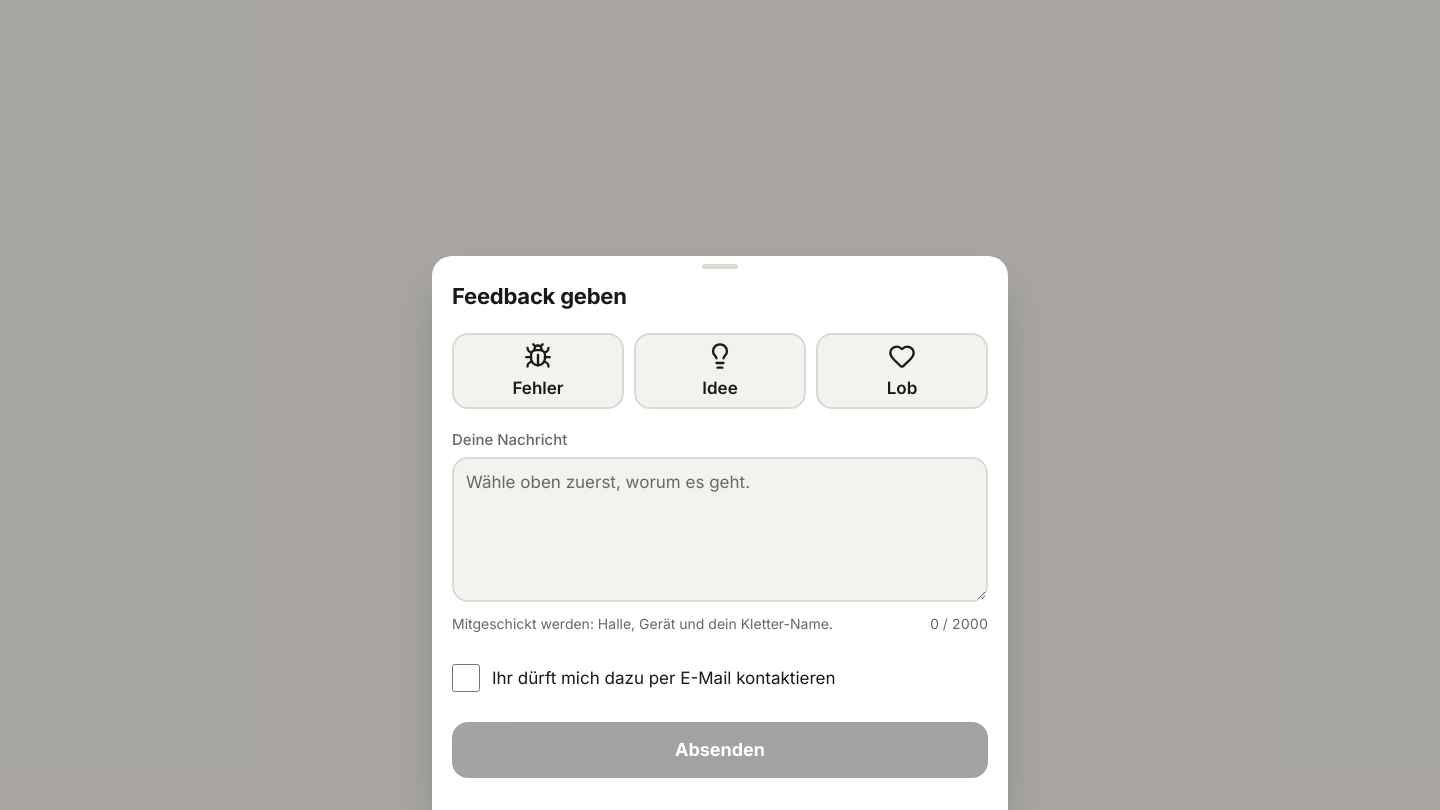
it: SPEC-026 FeedbackSheet › zeigt nach dem Senden «Danke» und schickt die E-Mail nur mit Häkchen (AC-7, AC-8)
The image size is (1440, 810).
Click the radio button with test id "feedback-category-idea" at x=720, y=371, box [634,333,806,409]
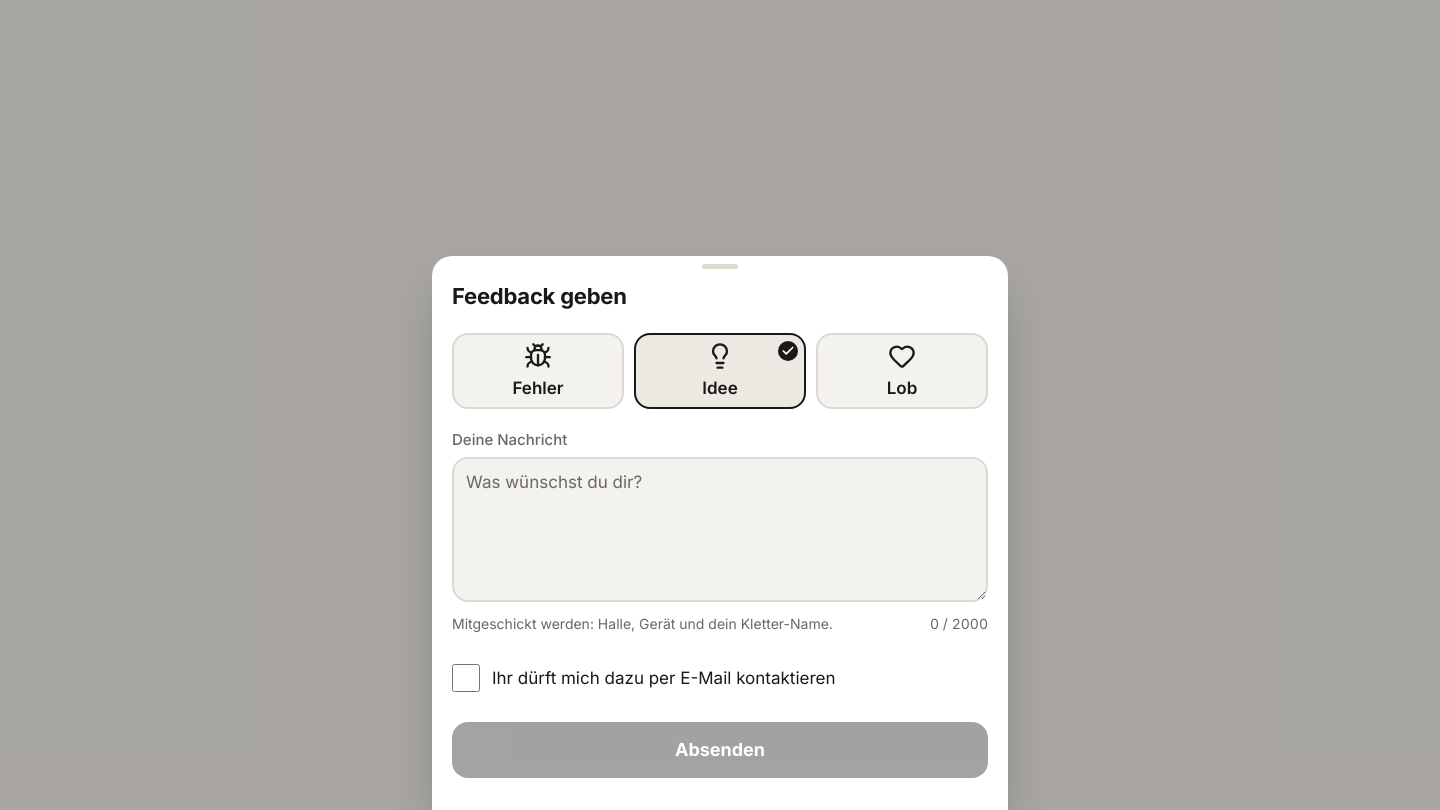
Type "  Bitte Timer für Pausen  " into the text box with test id "feedback-message" at x=720, y=529, box [452,457,988,602]
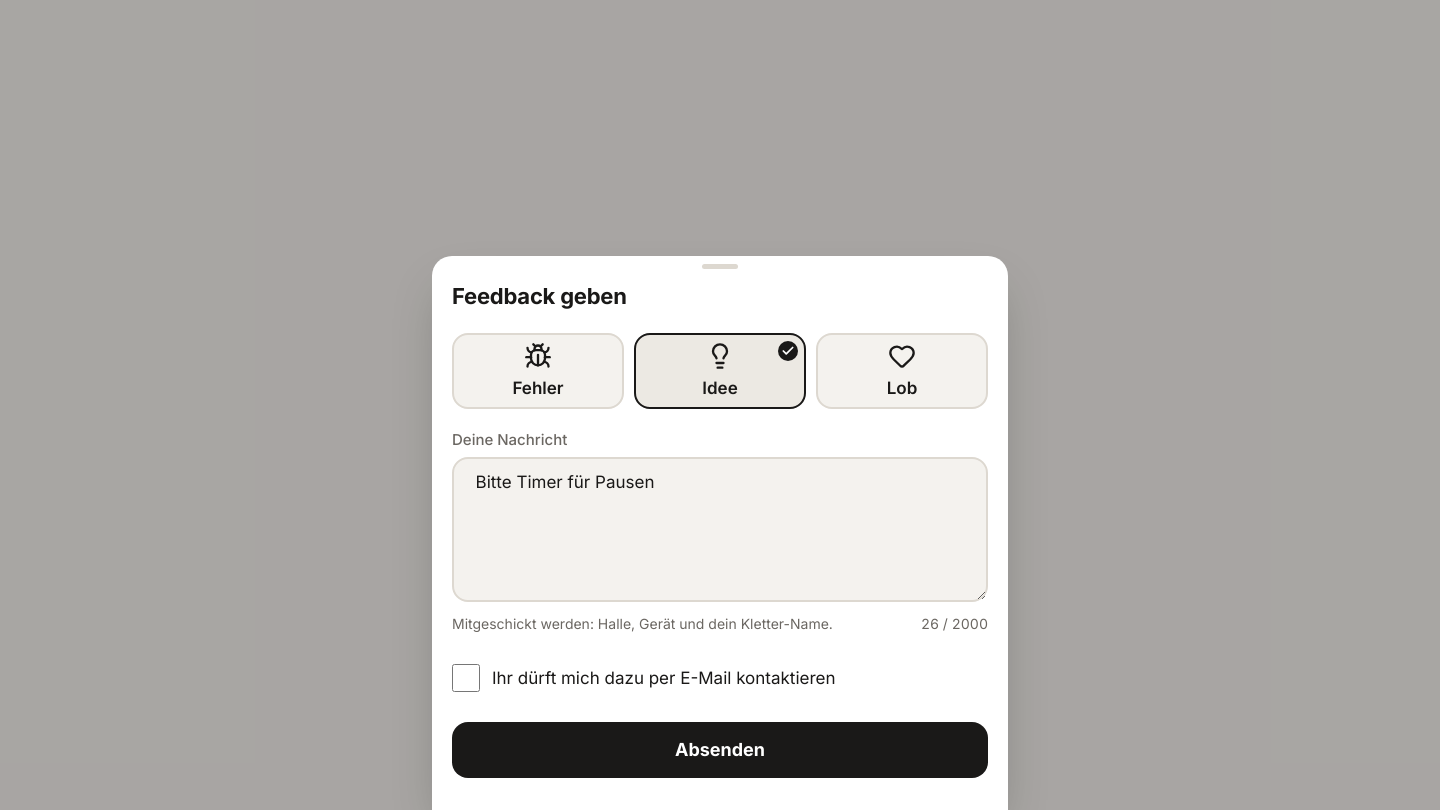
Click the checkbox with test id "feedback-contact" at x=466, y=678, box [452,664,480,692]
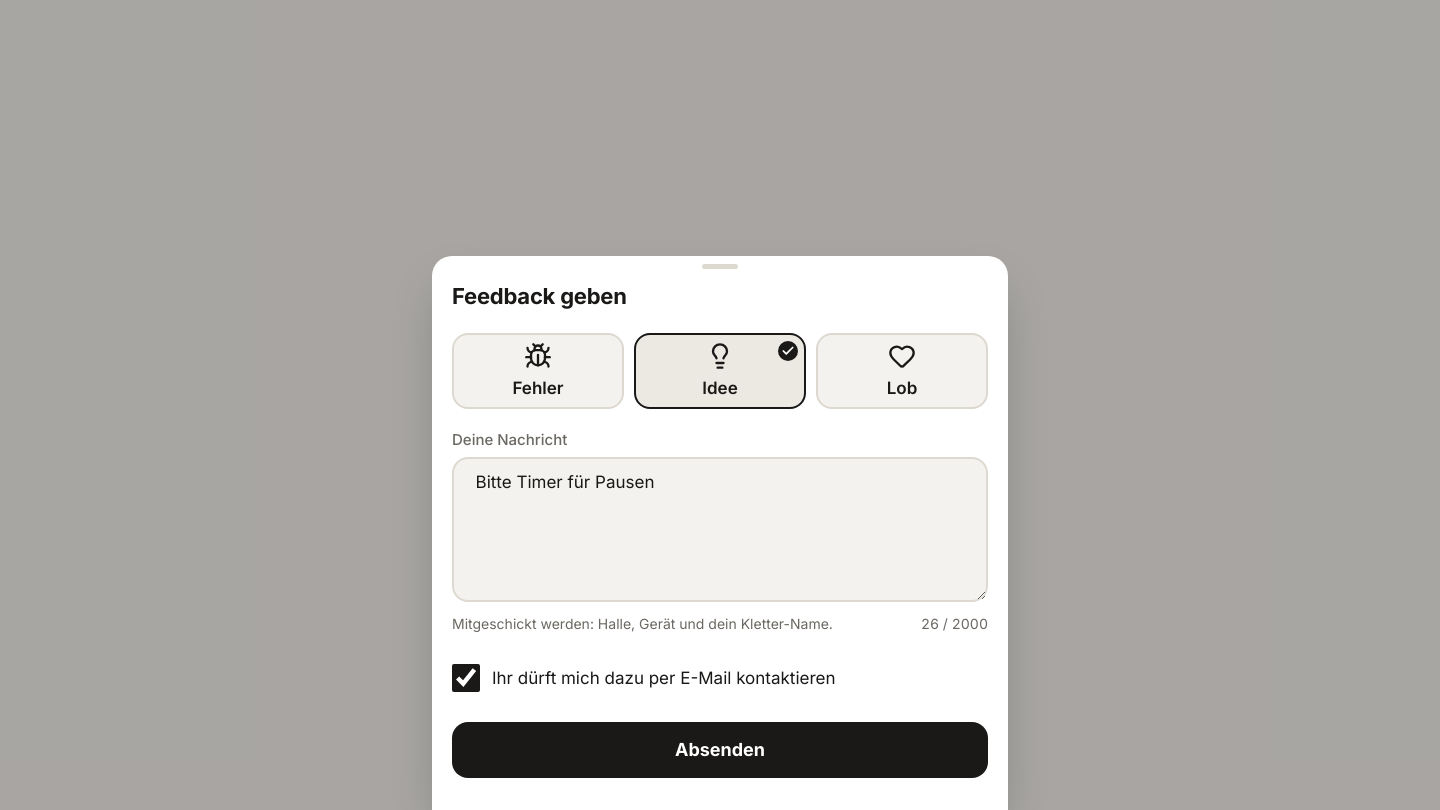
Click the button with test id "feedback-submit" at x=720, y=750, box [452,722,988,778]
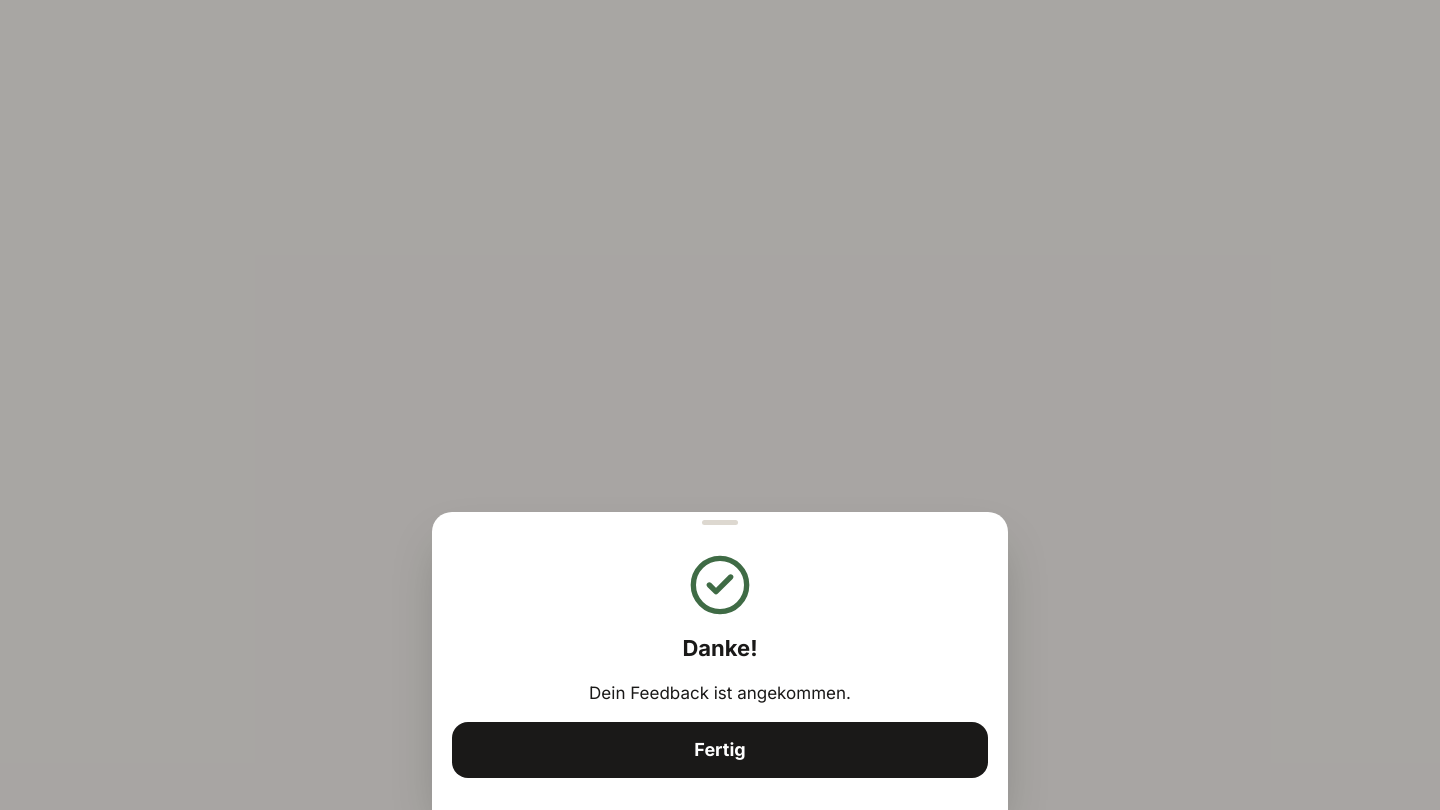
Now the element with test id "feedback-thanks" is shown, box [432,530,1008,794]
Now the text with test id "feedback-thanks-text" reads "Dein Feedback ist angekommen.", box [589,683,851,703]
